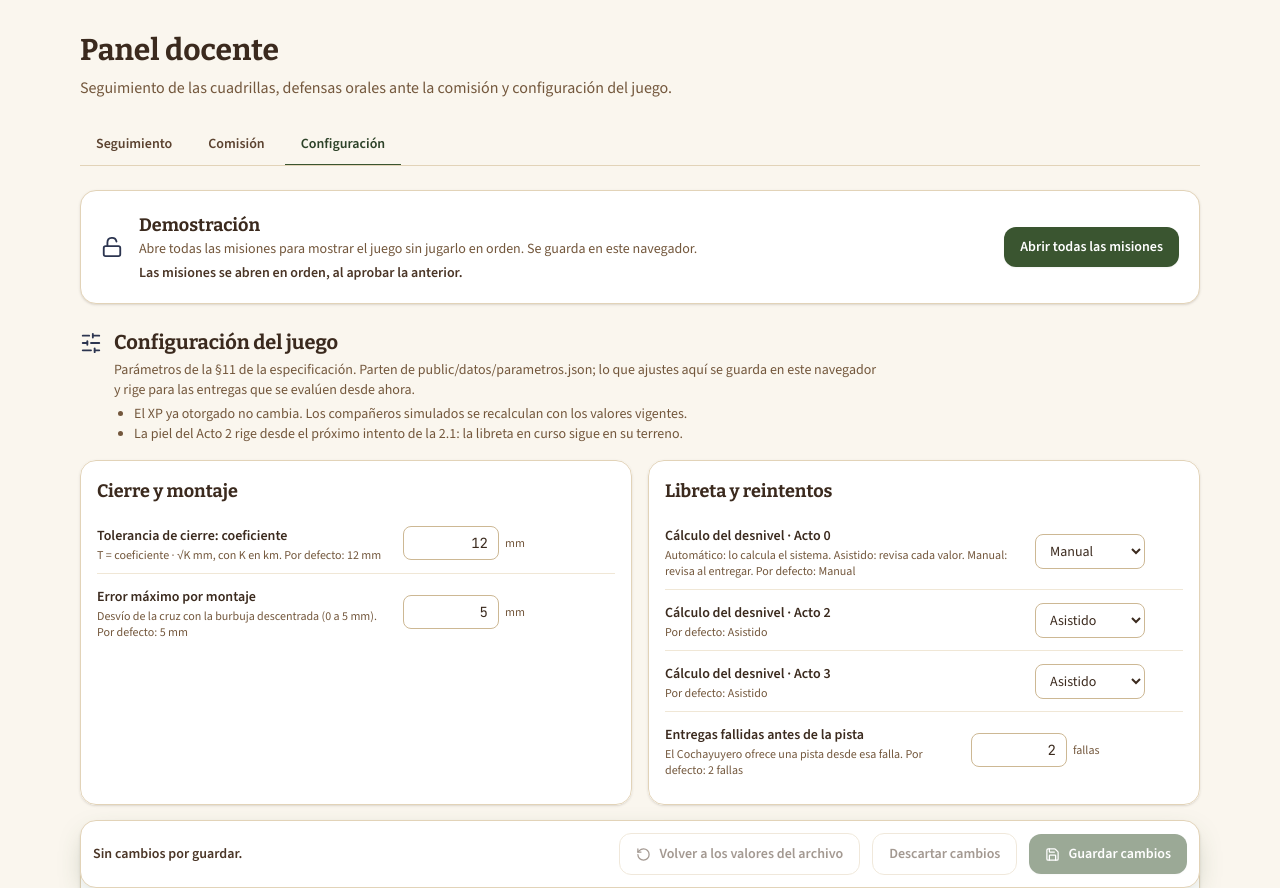
Panel docente · configuración › con un valor fuera de rango muestra el error y no deja guardar
The image size is (1280, 888).
Step 1. Replace the text in the field labelled "Error máximo por montaje" with "8" → (451, 612), box [403,595,499,629]
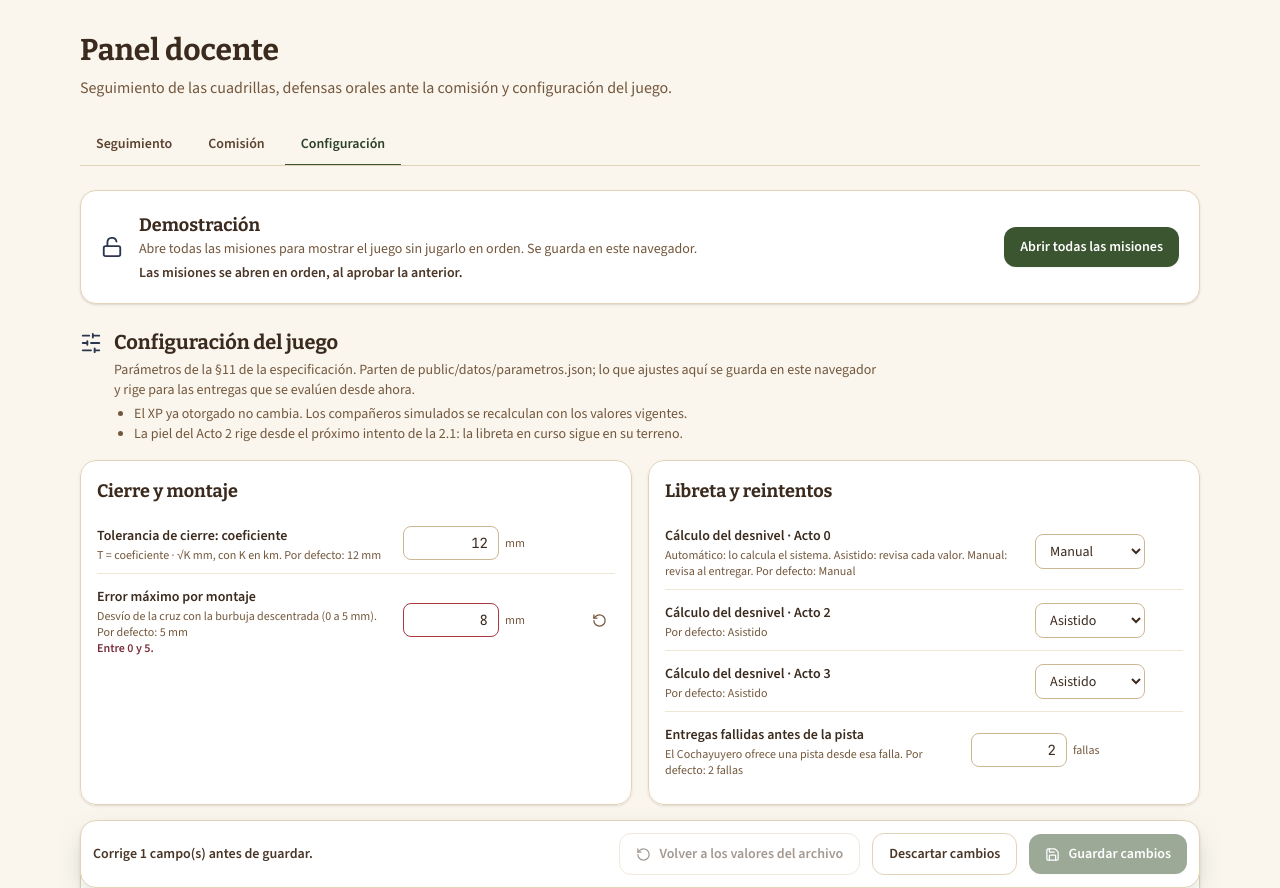
Expected: the button "Guardar cambios" is disabled, [1029,834,1187,874]
Expected: the text "Entre 0 y 5." is shown, [97,640,154,656]
